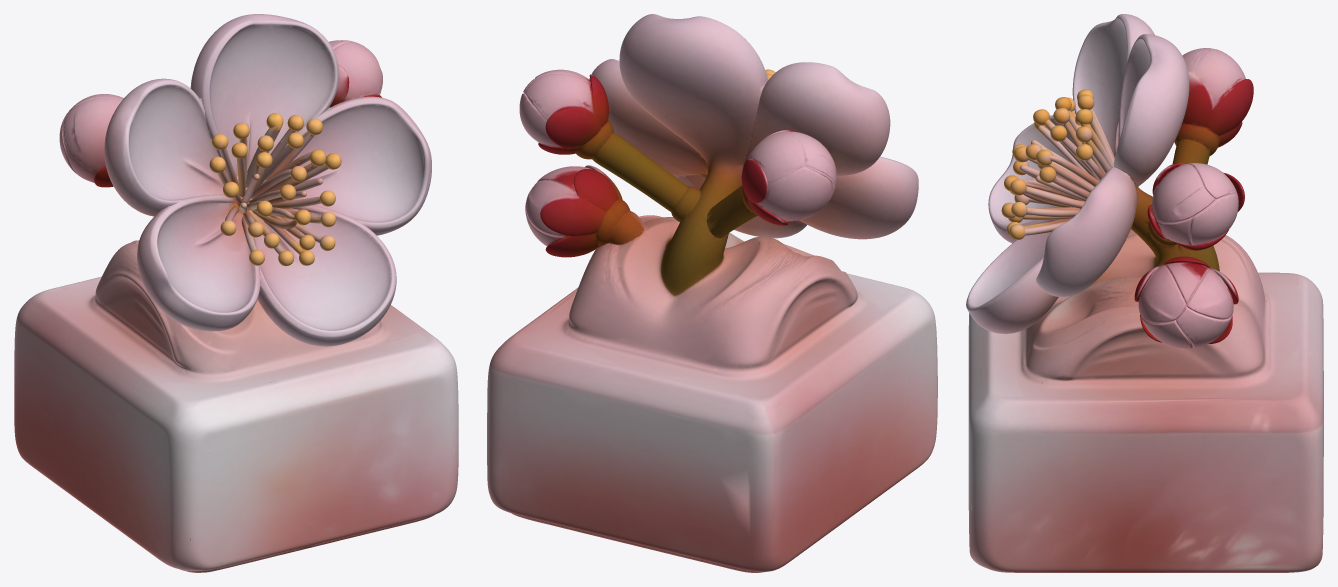
Rendered from yzmeihua.glb.
3 renders of one model, left to right at view 1: azimuth 30°, elevation 25°; view 2: azimuth 150°, elevation 25°; view 3: azimuth 270°, elevation 25°, orthographic. The views are drawn at different scales.
Visible parts, largest first — view 1: node_0; view 2: node_0; view 3: node_0.
Boxes of the visible parts, <box> form: node_0: <box>14,14,458,572</box>; node_0: <box>487,14,937,572</box>; node_0: <box>966,14,1323,572</box>.
Bounding box in the file's own units: 0.6407 × 0.9108 × 0.6205.
1 material, 1 textured.
